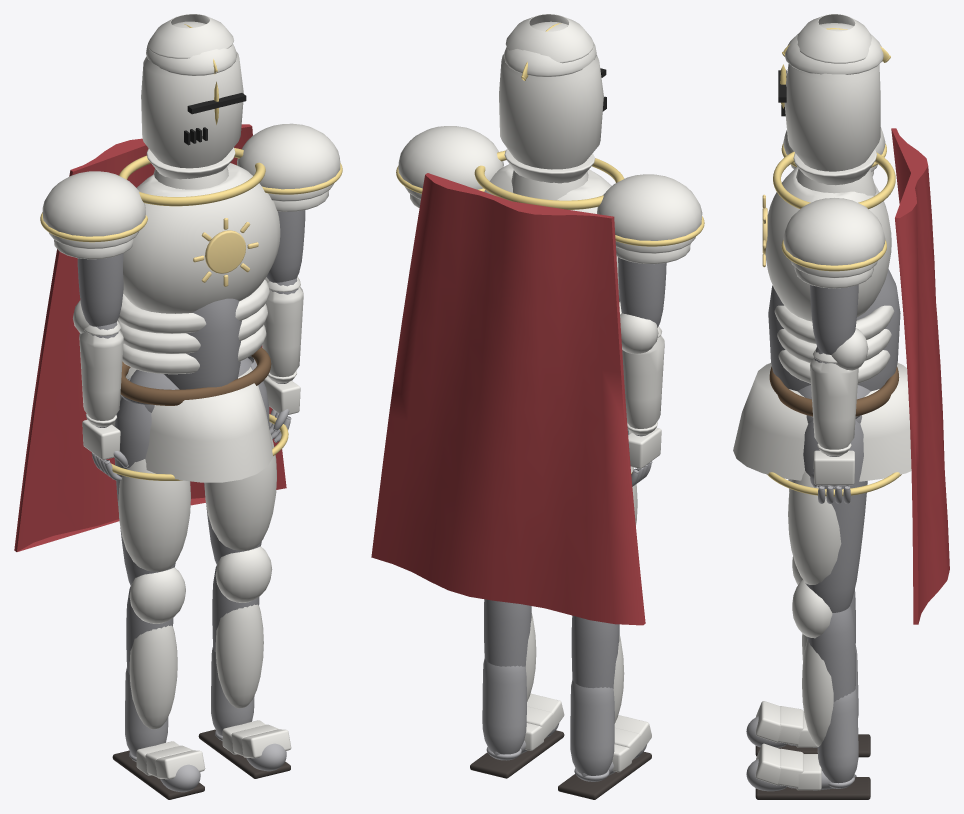
The model's file is Paladin.fbx.
3 renders of one model, left to right at view 1: azimuth 30°, elevation 25°; view 2: azimuth 150°, elevation 25°; view 3: azimuth 270°, elevation 25°, orthographic. The views are drawn at different scales.
Parts seen in each view (by area): view 1: Capa clara, Peto, Yelmo, Faldar, Lamas, Quijote_D, Hombrera_D_0, Hombrera_I_0, Quijote_I, Greba_D, Greba_I, Abdomen (+26 smaller); view 2: Capa clara, Yelmo, Hombrera_D_0, Hombrera_I_0, Bota_D, Bota_I, Brazal_D, Tibia_D, Tibia_I, Humero_D, Ribete del peto, Escarpe_D (+11 smaller); view 3: Capa clara, Yelmo, Faldar, Hombrera_I_0, Peto, Femur_I, Quijote_I, Brazal_I, Lamas, Bota_I, Abdomen, Humero_I (+18 smaller).
Boxes of the visible parts, <box> form: Capa clara: <box>14,124,286,551</box>; Peto: <box>123,163,280,313</box>; Yelmo: <box>141,14,243,179</box>; Faldar: <box>112,367,272,482</box>; Lamas: <box>117,279,269,374</box>; Quijote_D: <box>118,459,190,571</box>; Hombrera_D_0: <box>42,171,145,236</box>; Hombrera_I_0: <box>237,123,340,189</box>; Quijote_I: <box>204,432,276,550</box>; Greba_D: <box>129,625,177,729</box>; Greba_I: <box>215,604,263,708</box>; Abdomen: <box>164,298,241,389</box>; Capa clara: <box>371,173,645,625</box>; Yelmo: <box>499,14,603,183</box>; Hombrera_D_0: <box>597,174,702,240</box>; Hombrera_I_0: <box>398,126,503,189</box>; Bota_D: <box>570,679,646,781</box>; Bota_I: <box>482,659,559,760</box>; Brazal_D: <box>622,326,664,435</box>; Tibia_D: <box>571,615,619,688</box>; Tibia_I: <box>484,599,531,667</box>; Humero_D: <box>618,257,666,327</box>; Ribete del peto: <box>474,150,624,209</box>; Escarpe_D: <box>612,715,651,772</box>; Capa clara: <box>891,128,949,624</box>; Yelmo: <box>784,14,883,185</box>; Faldar: <box>733,363,911,481</box>; Hombrera_I_0: <box>783,198,885,265</box>; Peto: <box>765,167,891,321</box>; Femur_I: <box>803,415,867,612</box>; Quijote_I: <box>788,471,841,584</box>; Brazal_I: <box>810,349,858,456</box>; Lamas: <box>774,305,894,383</box>; Bota_I: <box>746,688,858,791</box>; Abdomen: <box>768,269,900,391</box>; Humero_I: <box>810,284,858,354</box>.
Bounding box in the file's own units: 0.798 × 1.94 × 0.5105.
